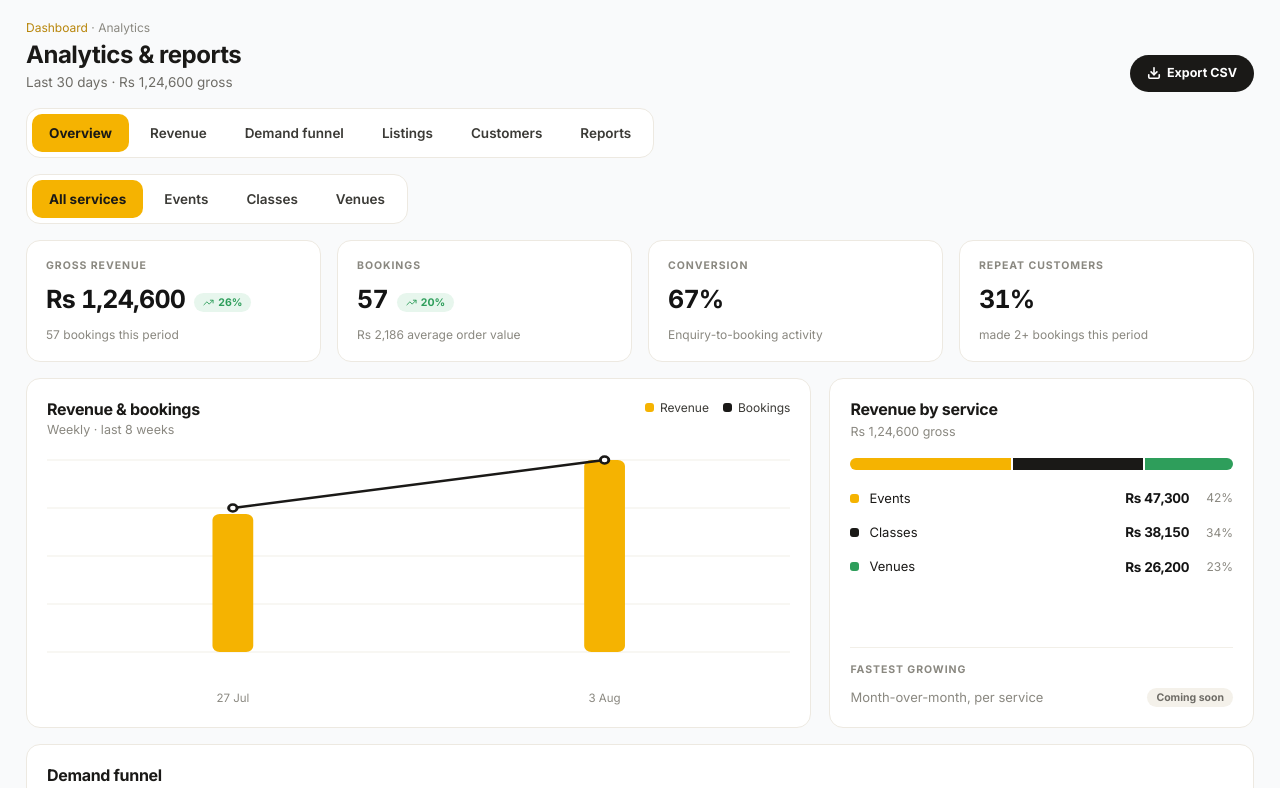
Test: Analytics — tab switching › shows the demand funnel with a real uncontacted-leads insight
The image size is (1280, 788).
expect the text "Revenue by service" is shown: met, box [850, 399, 998, 419]
Click the tab "Demand funnel".
click(294, 133)  # box [228, 114, 361, 152]
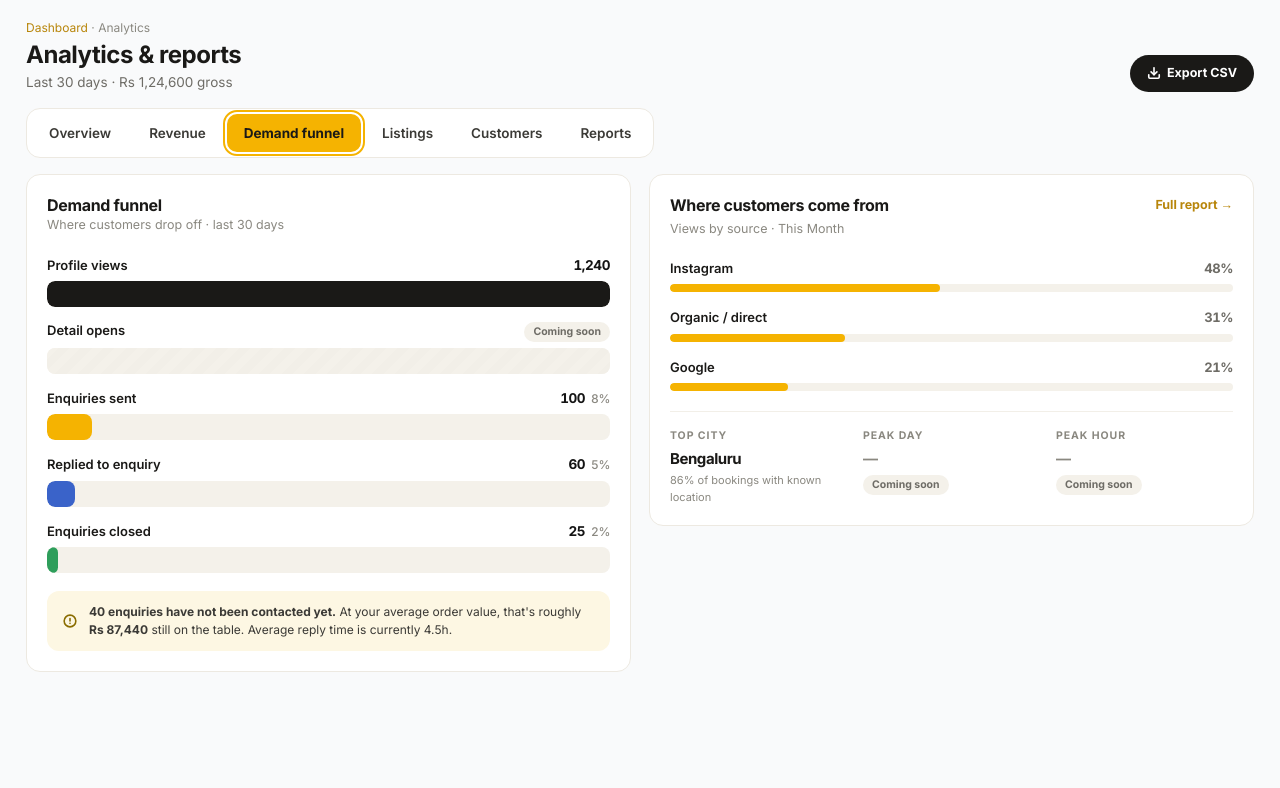
expect the text "Profile views" is shown: met, box [47, 256, 128, 275]
expect the text "40 enquiries have not been contacted yet." is shown: met, box [89, 604, 336, 619]
